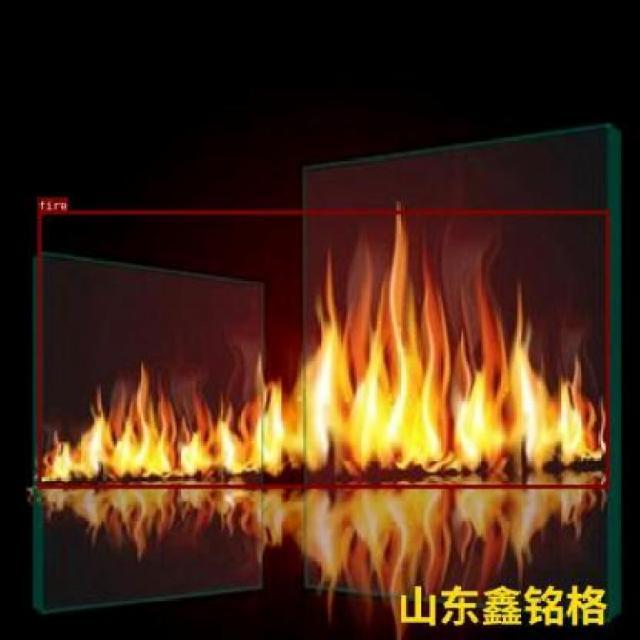Fire: (323, 279, 571, 348)
